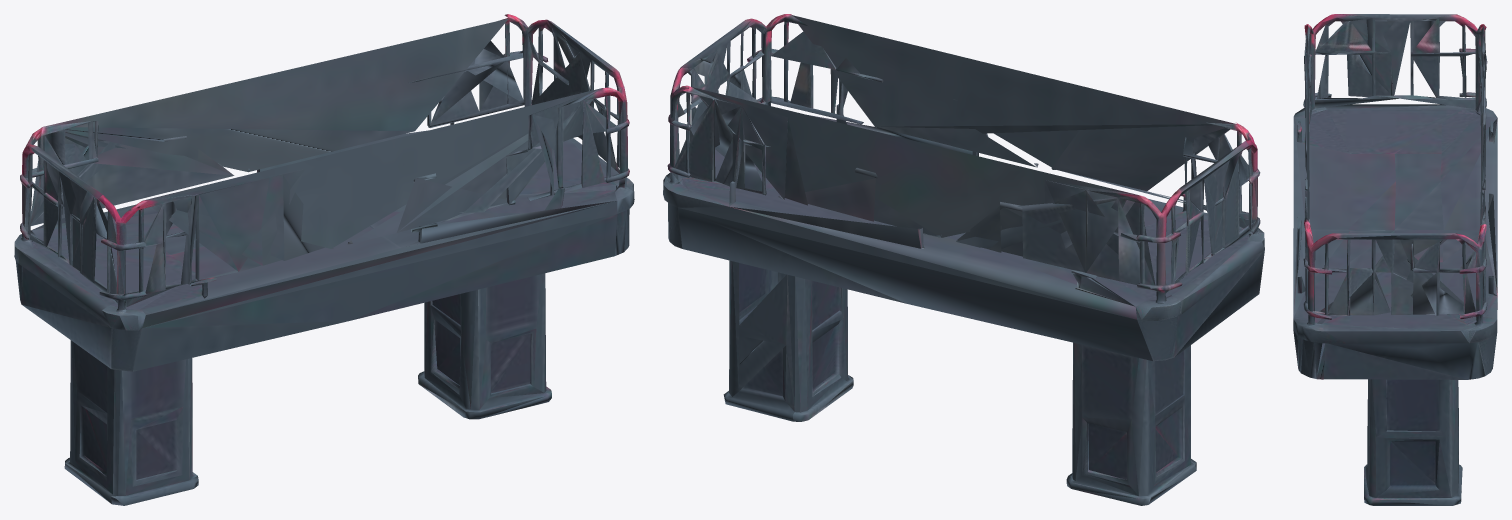
The model's file is deco_passerelle.glb.
3 renders of one model, left to right at view 1: azimuth 30°, elevation 25°; view 2: azimuth 150°, elevation 25°; view 3: azimuth 270°, elevation 25°, orthographic. The views are drawn at different scales.
Visible parts, largest first — view 1: mesh_node; view 2: mesh_node; view 3: mesh_node.
Part boxes in pixels (<box>): mesh_node: <box>14,14,634,505</box>; mesh_node: <box>663,14,1264,505</box>; mesh_node: <box>1293,14,1497,505</box>.
Size of the model in its own units: 1.9 by 1.14 by 0.7243.
1 material, 1 textured.
